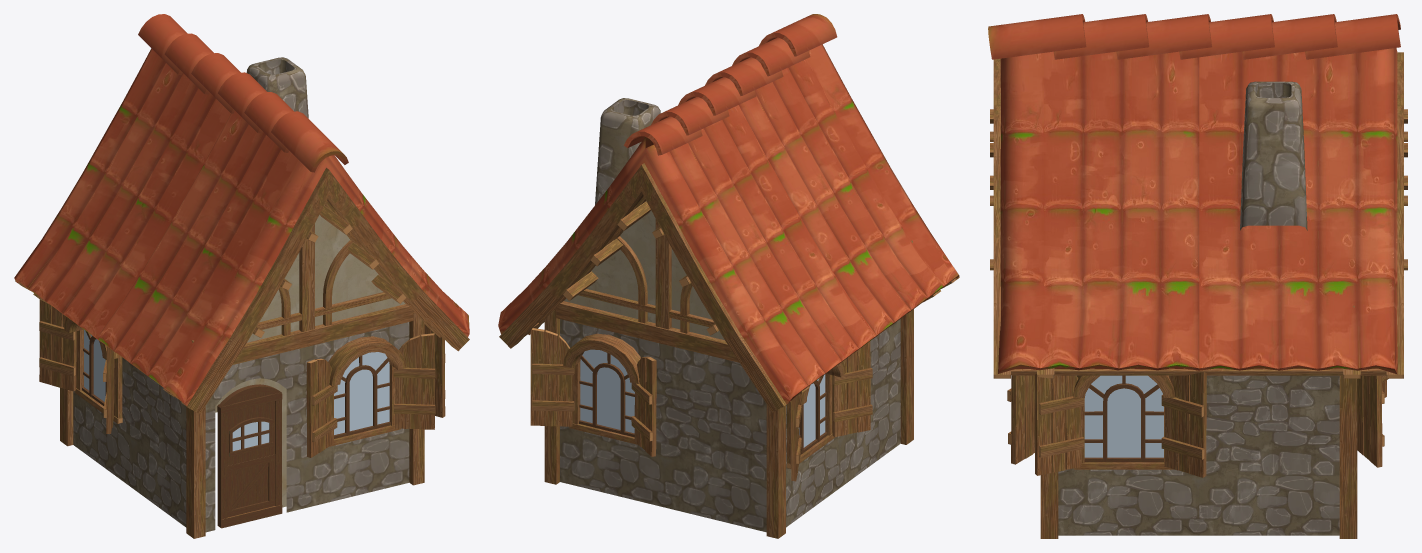
The model's file is Cottage.gltf.
The picture shows the model from 3 angles, left to right: view 1: azimuth 30°, elevation 25°; view 2: azimuth 150°, elevation 25°; view 3: azimuth 270°, elevation 25°; orthographic projection. The views are drawn at different scales.
Visible parts, largest first — view 1: Cottage; view 2: Cottage; view 3: Cottage.
Part boxes in pixels (x1,y1,x2,y2): Cottage: (14, 14, 469, 538); Cottage: (498, 14, 959, 538); Cottage: (988, 14, 1407, 538).
Bounding box in the file's own units: 5.51 × 6.73 × 5.62.
5 materials, 4 textured.
